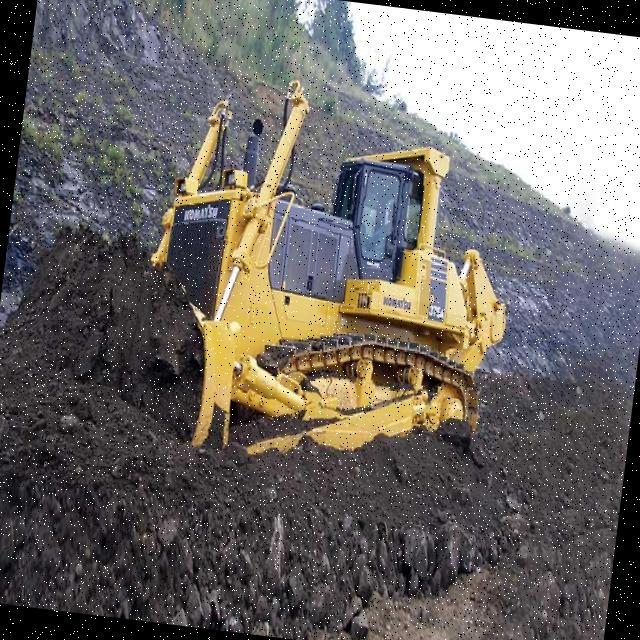Bulldozer: (97, 42, 560, 534)
